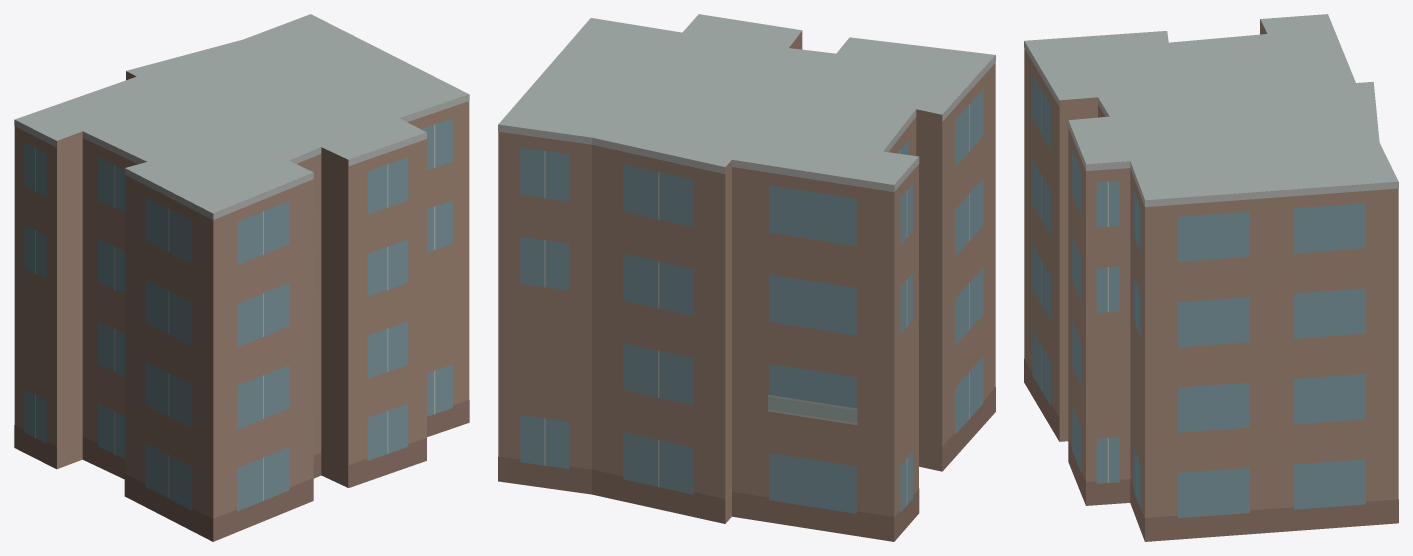
Rendered from survey-upis-32495805.glb.
3 renders of one model, left to right at view 1: azimuth 30°, elevation 25°; view 2: azimuth 150°, elevation 25°; view 3: azimuth 270°, elevation 25°, orthographic. The views are drawn at different scales.
Visible parts, largest first — view 1: survey-upis-32495805.tmp; view 2: survey-upis-32495805.tmp; view 3: survey-upis-32495805.tmp.
Part boxes in pixels (x1=…): survey-upis-32495805.tmp: x1=14, y1=14, x2=469, y2=541; survey-upis-32495805.tmp: x1=498, y1=14, x2=995, y2=541; survey-upis-32495805.tmp: x1=1024, y1=14, x2=1398, y2=541.
Bounding box in the file's own units: 14.28 × 12.2 × 12.14.
